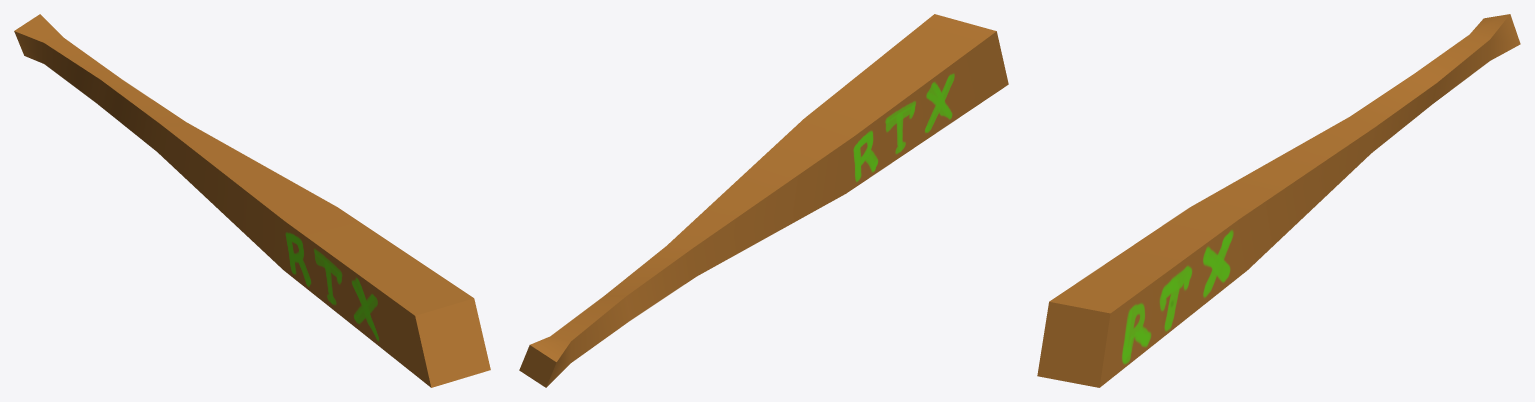
Rendered from bita (1).fbx.
3 renders of one model, left to right at view 1: azimuth 30°, elevation 25°; view 2: azimuth 150°, elevation 25°; view 3: azimuth 330°, elevation 25°, orthographic. The views are drawn at different scales.
Visible parts, largest first — view 1: bita Hyanga; view 2: bita Hyanga; view 3: bita Hyanga.
Boxes of the visible parts, box(x1,y1,x2,y2) form: bita Hyanga: box(14, 14, 490, 387); bita Hyanga: box(519, 14, 1008, 387); bita Hyanga: box(1037, 14, 1520, 387).
Size of the model in its own units: 16.4 by 16.26 by 194.
1 material, 1 textured.
